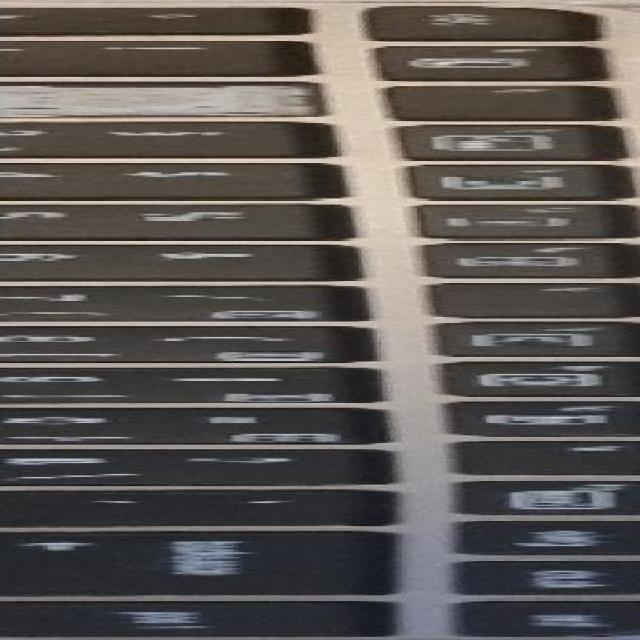Keyboard problems: (0, 83, 322, 117)
